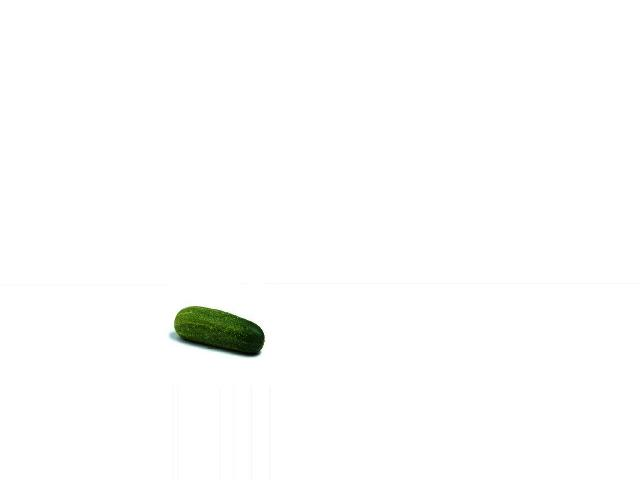cucumber: (174, 306, 264, 354)
